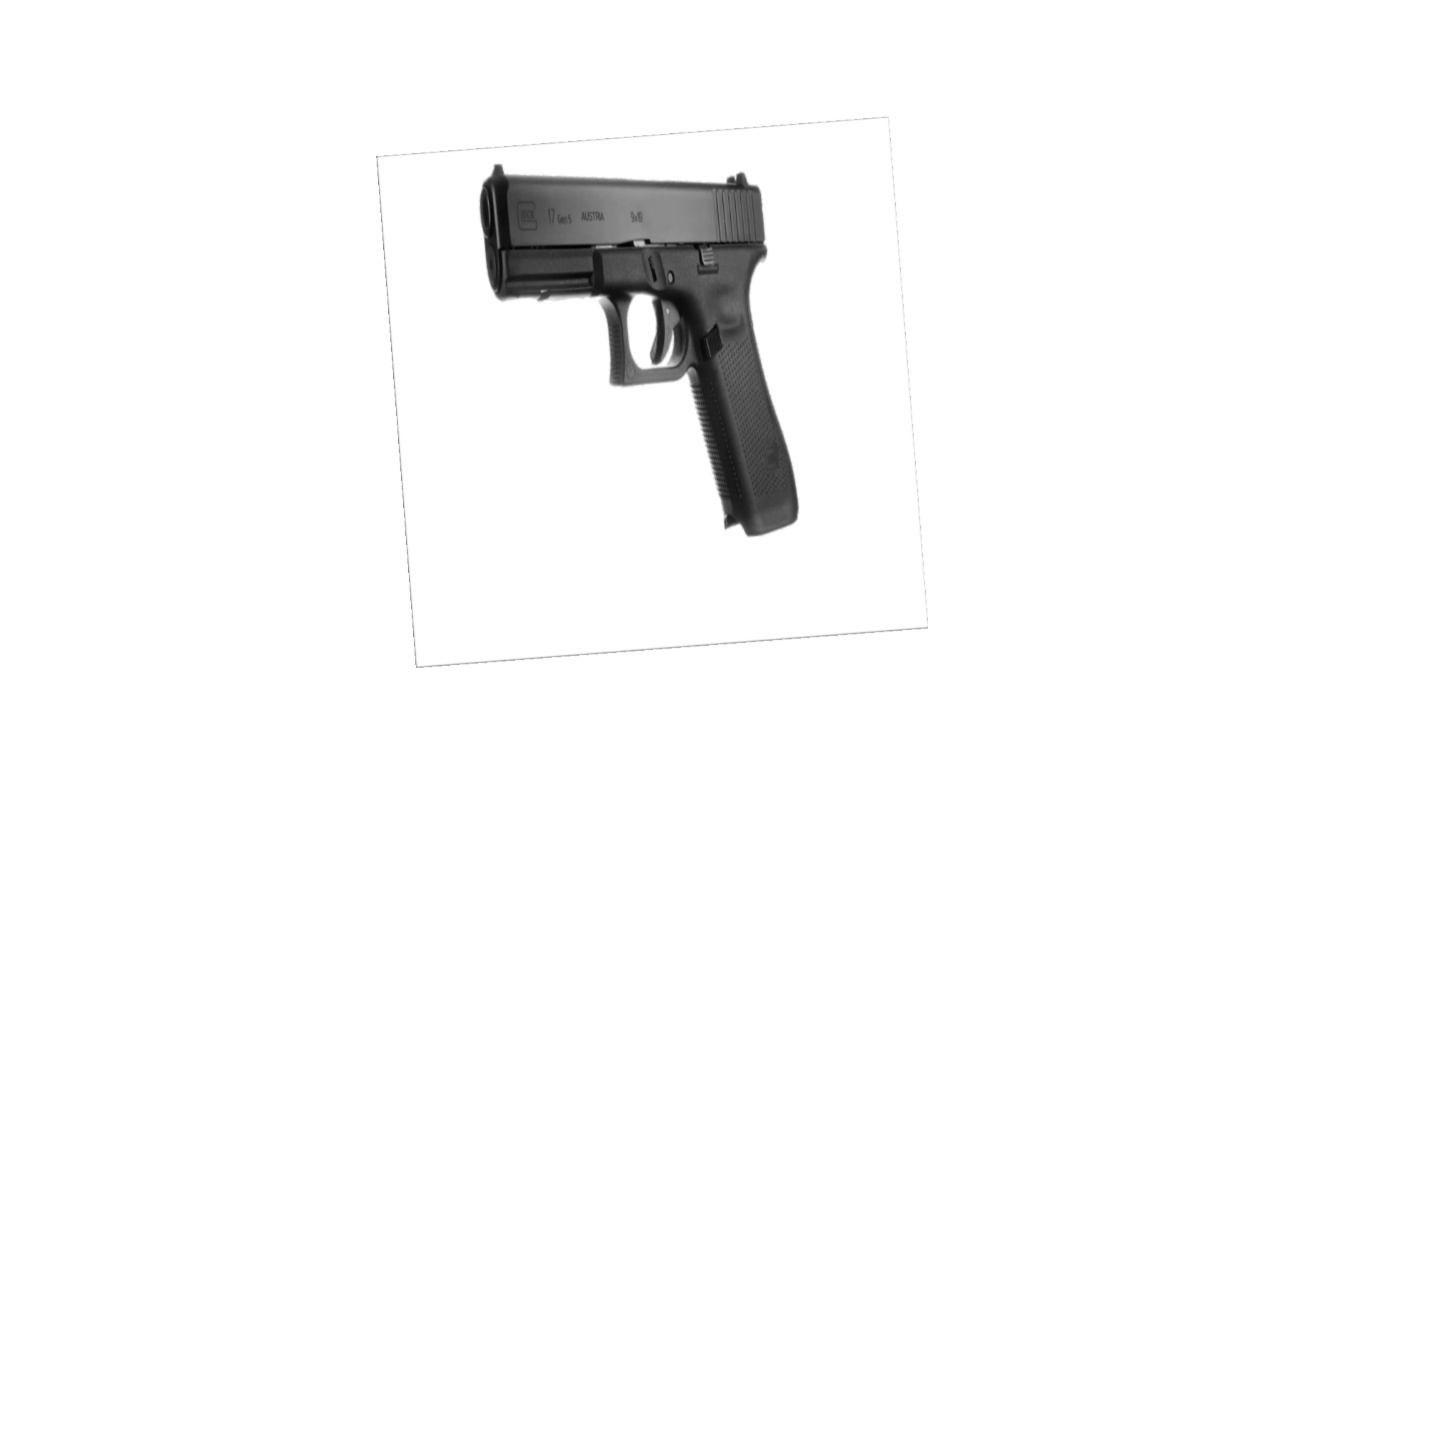gun: (446, 158, 815, 545)
